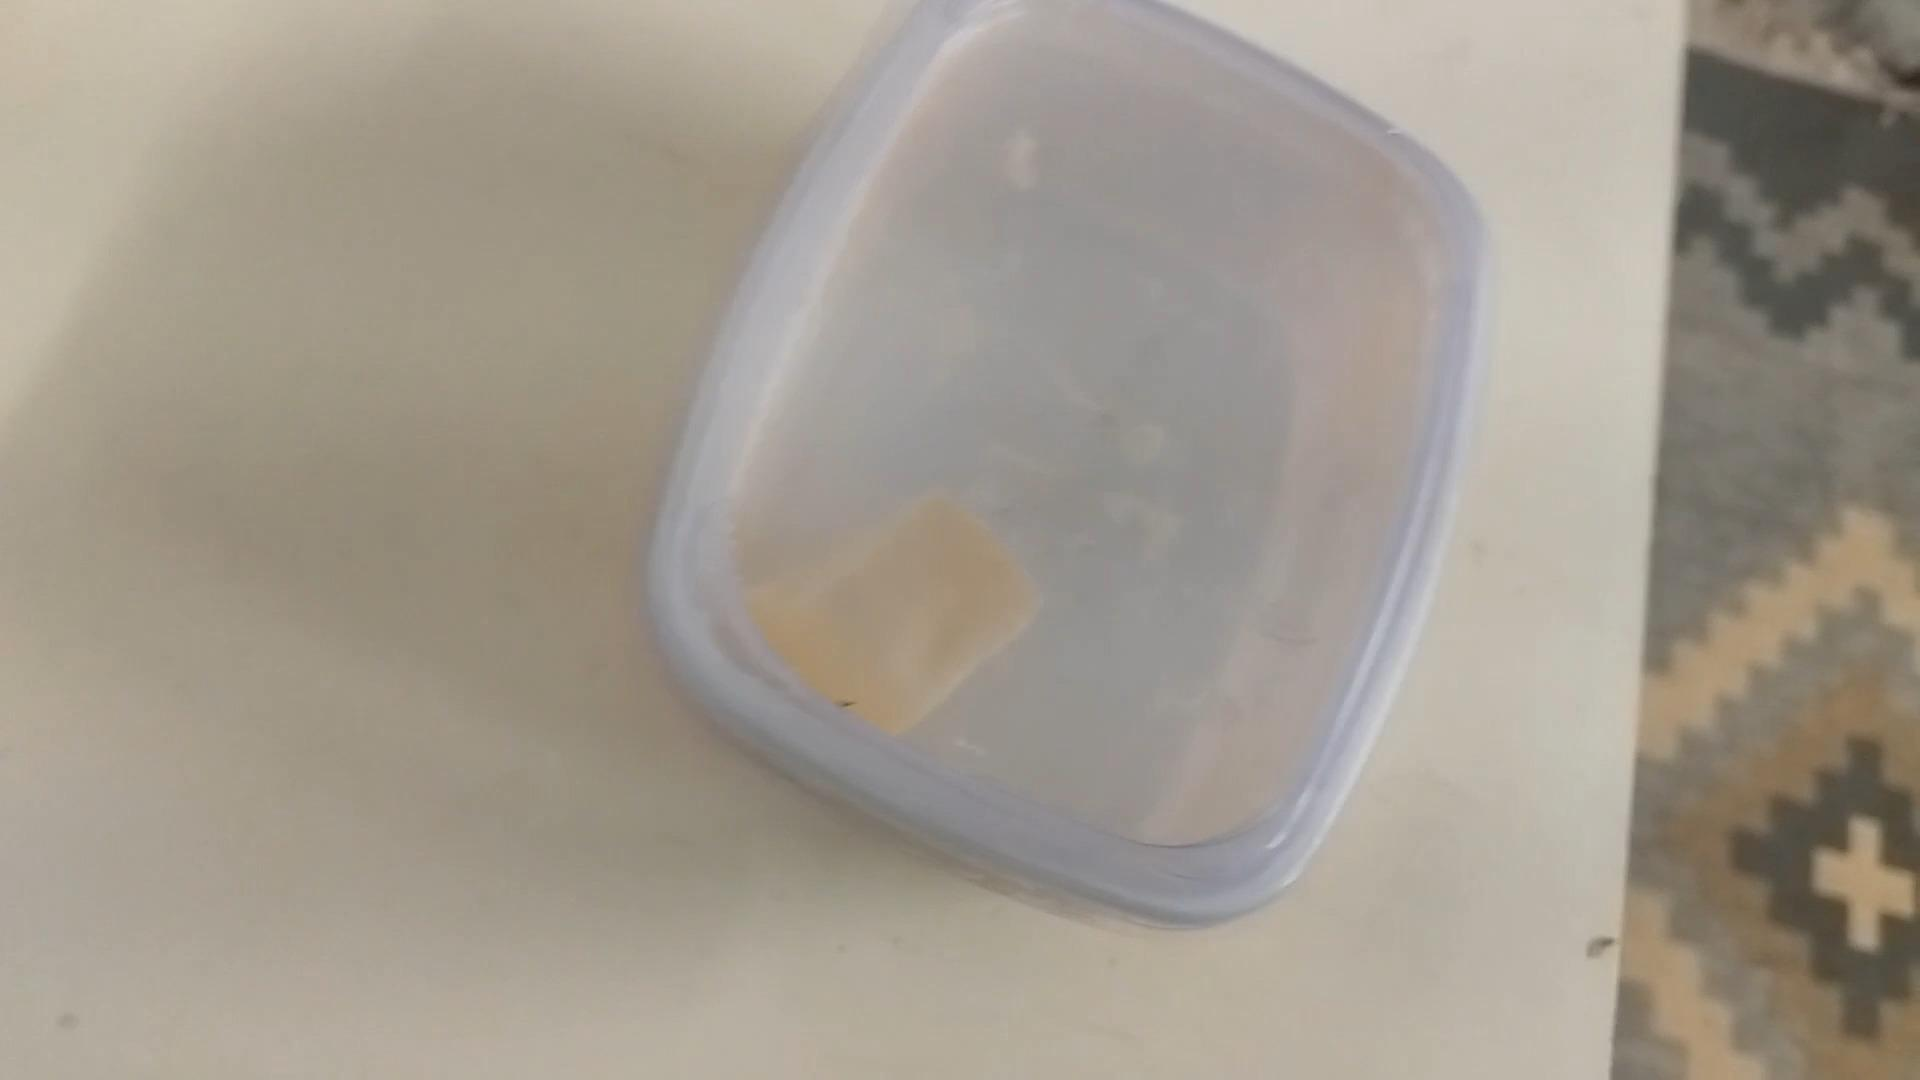butter: (640, 1, 1473, 932)
